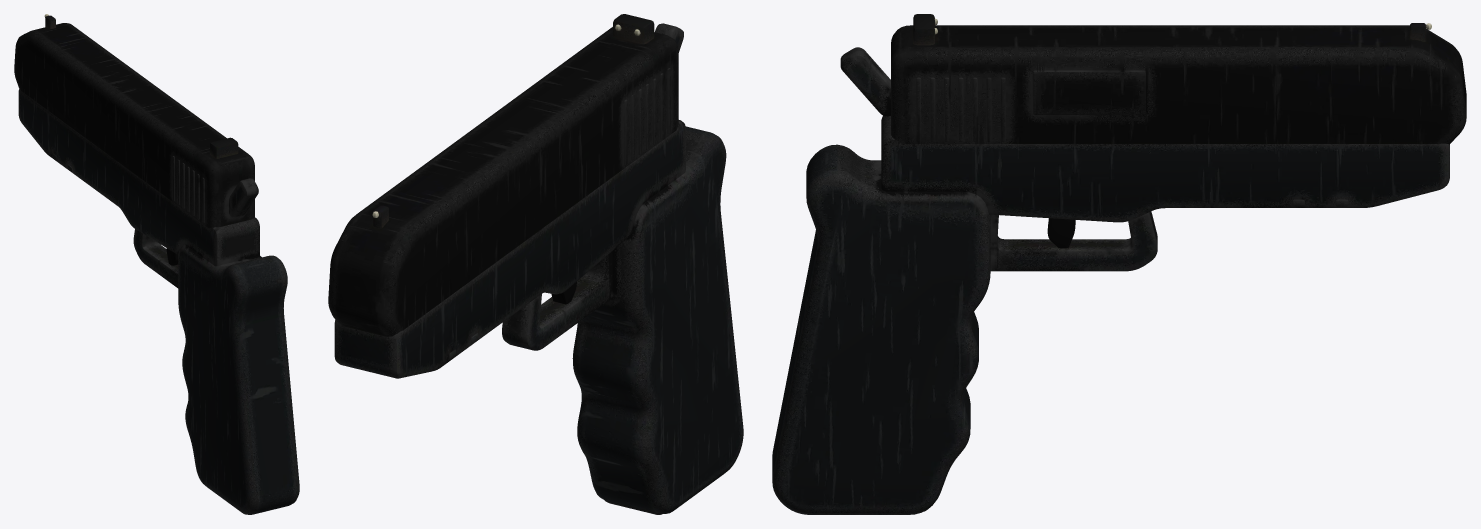
3 views of the same model, side by side, from view 1: azimuth 30°, elevation 25°; view 2: azimuth 150°, elevation 25°; view 3: azimuth 270°, elevation 25° (orthographic). The views are drawn at different scales.
Parts seen in each view (by area): view 1: body_receiver, slide_receiver, slide_metal; view 2: body_receiver, slide_receiver, slide_metal; view 3: body_receiver, slide_receiver, slide_metal.
Boxes of the visible parts, x1,y1,x2,y2 form: body_receiver: [18, 89, 299, 514]; slide_receiver: [14, 23, 258, 228]; slide_metal: [44, 14, 238, 158]; body_receiver: [334, 120, 743, 513]; slide_receiver: [328, 23, 683, 336]; slide_metal: [372, 14, 654, 228]; body_receiver: [772, 115, 1449, 514]; slide_receiver: [840, 25, 1466, 144]; slide_metal: [913, 14, 1431, 45].
Size of the model in its own units: 0.031 by 0.1955 by 0.2558.
5 materials, 5 textured.
